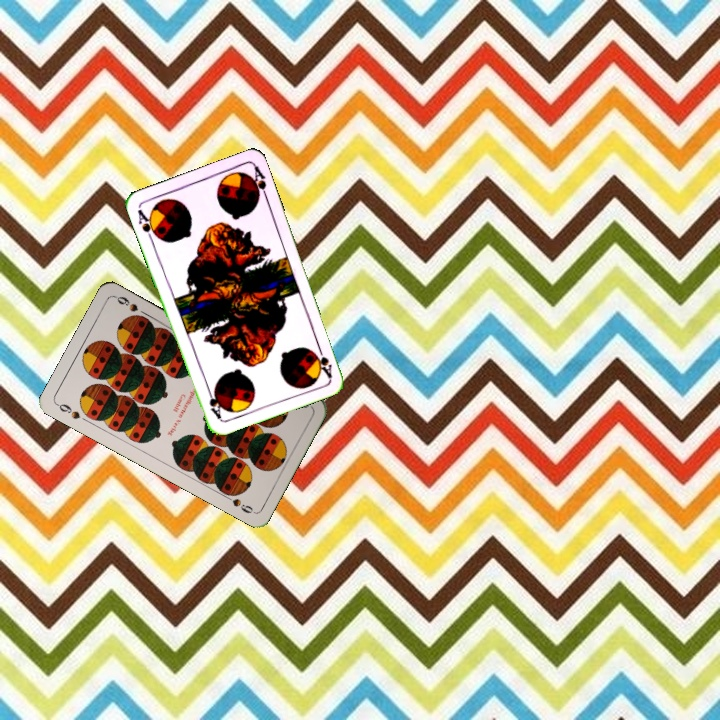S9: (52, 400, 83, 422)
SA: (134, 205, 161, 244), (311, 340, 335, 380)
